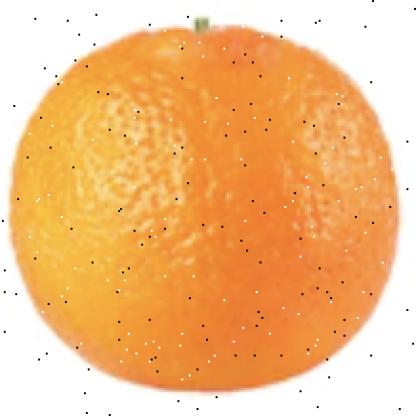fresh: (12, 25, 398, 395)
